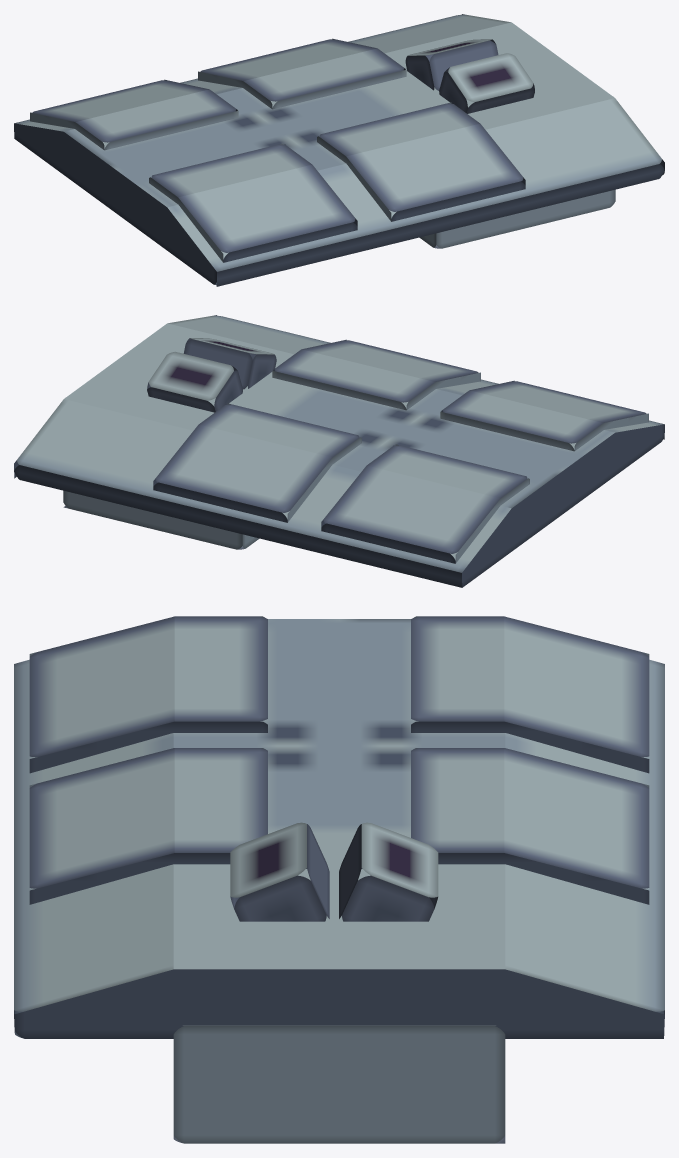
Rendered from df11_chimney.obj.
3 renders of one model, top to bottom at view 1: azimuth 30°, elevation 25°; view 2: azimuth 150°, elevation 25°; view 3: azimuth 270°, elevation 25°, orthographic. The views are drawn at different scales.
Visible parts, largest first — view 1: cube_selection_selection_selection_selection; view 2: cube_selection_selection_selection_selection; view 3: cube_selection_selection_selection_selection.
Boxes of the visible parts, bbox=[...] form: cube_selection_selection_selection_selection: bbox=[14, 14, 664, 286]; cube_selection_selection_selection_selection: bbox=[14, 315, 664, 587]; cube_selection_selection_selection_selection: bbox=[14, 616, 664, 1143].
Size of the model in its own units: 2.5 by 0.7426 by 1.96.
